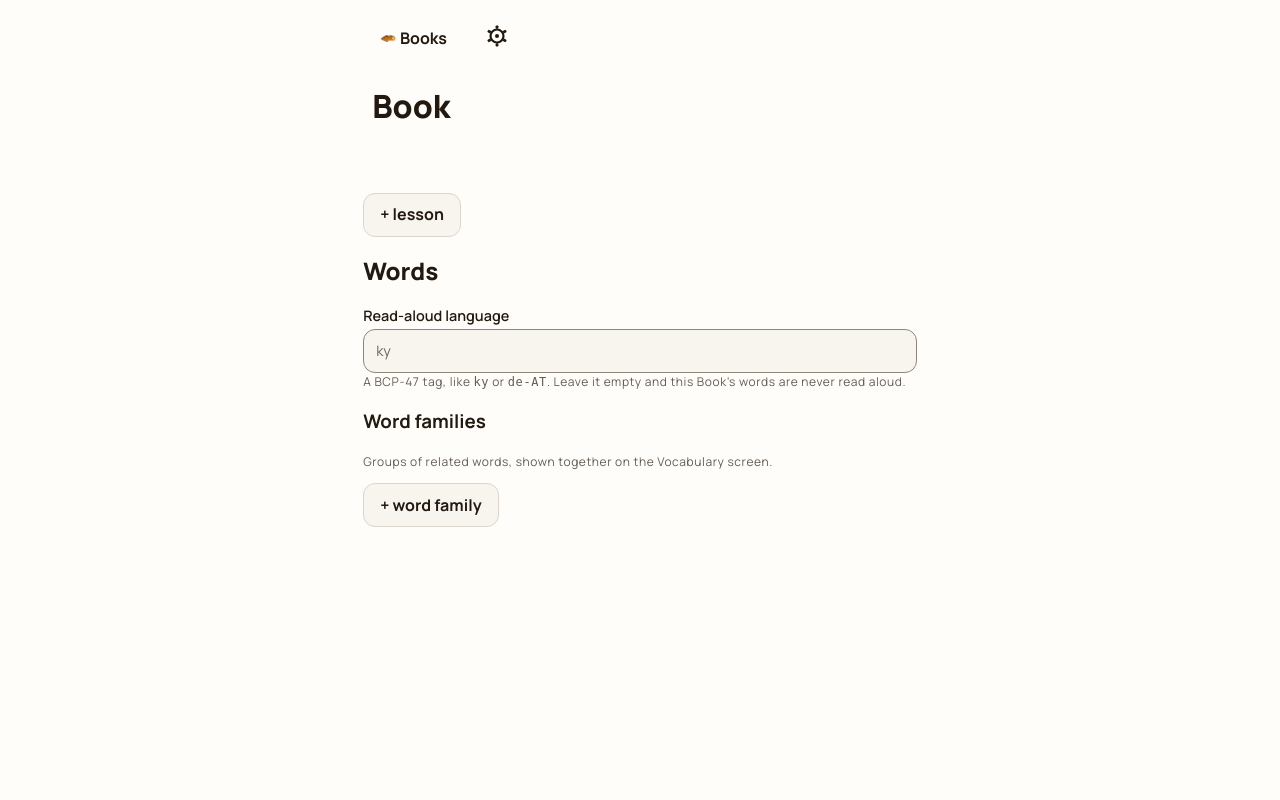
Test: Sources on the Book screen › says so plainly when nothing points at the source
The image size is (1280, 800).
# Spec 0021-14 §3: Sources moved into the header's Book settings sheet.
Click the button named "Book settings": coordinates (497, 38) 475,16 -> 519,60
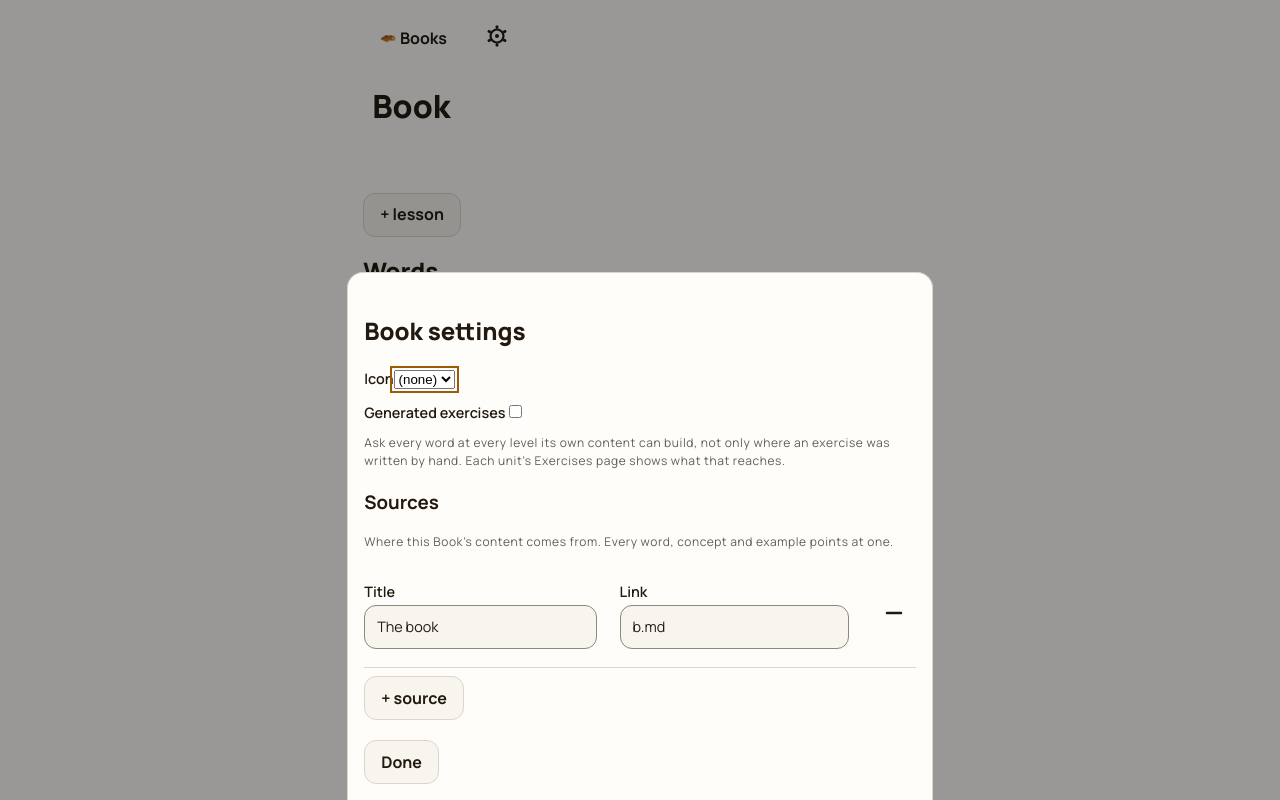
Click the button named "Delete": coordinates (894, 615) 872,593 -> 916,637
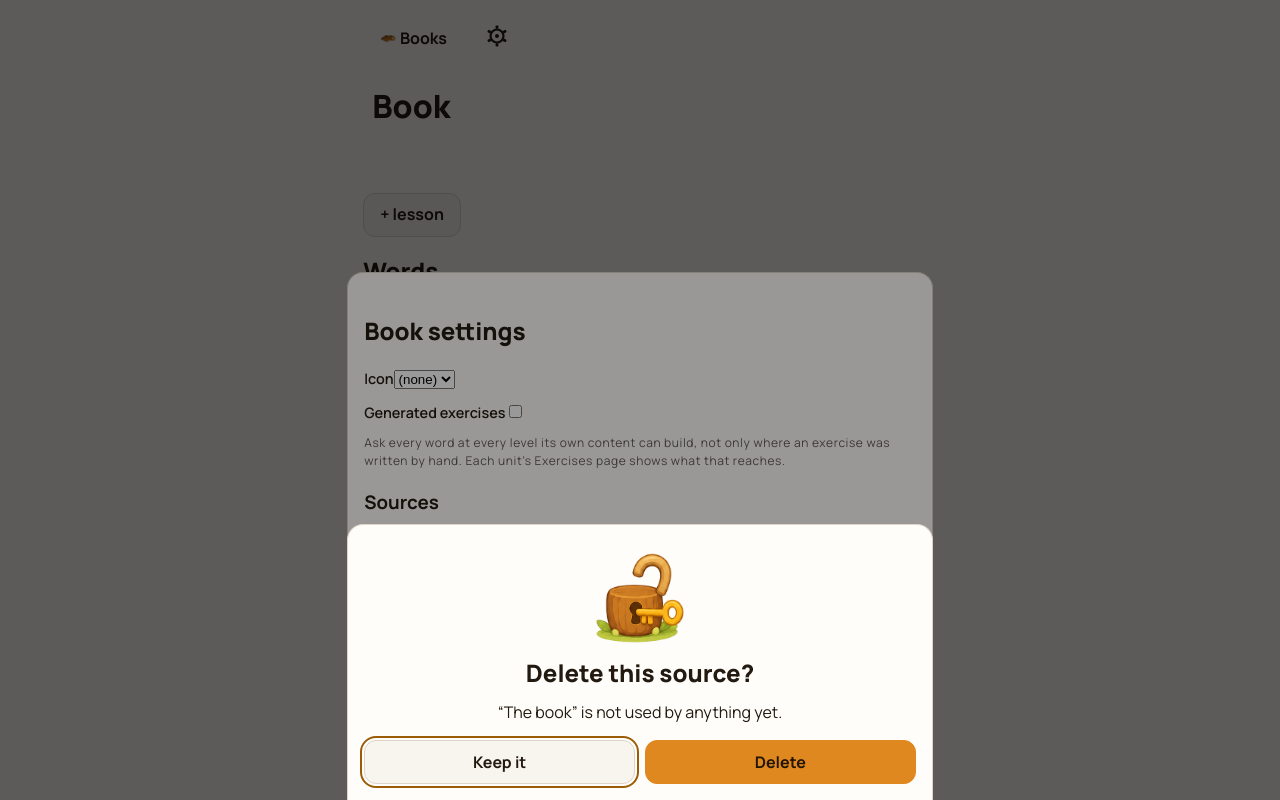
Now the text "“The book” is not used by anything yet." is shown, box 498,701 -> 782,723
